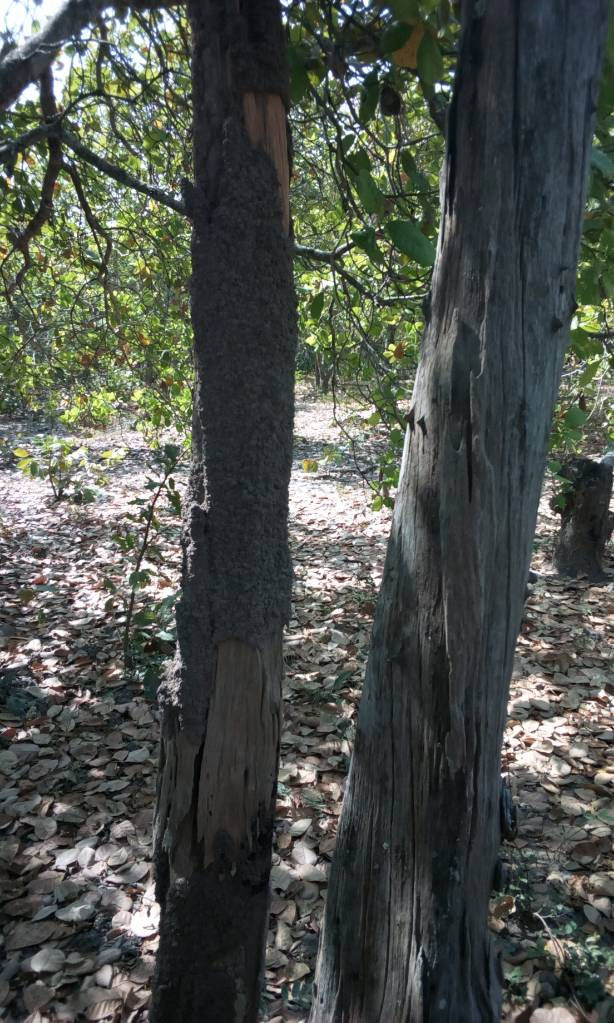Termites: (392, 11, 581, 605), (159, 71, 280, 992), (353, 622, 497, 1023)
